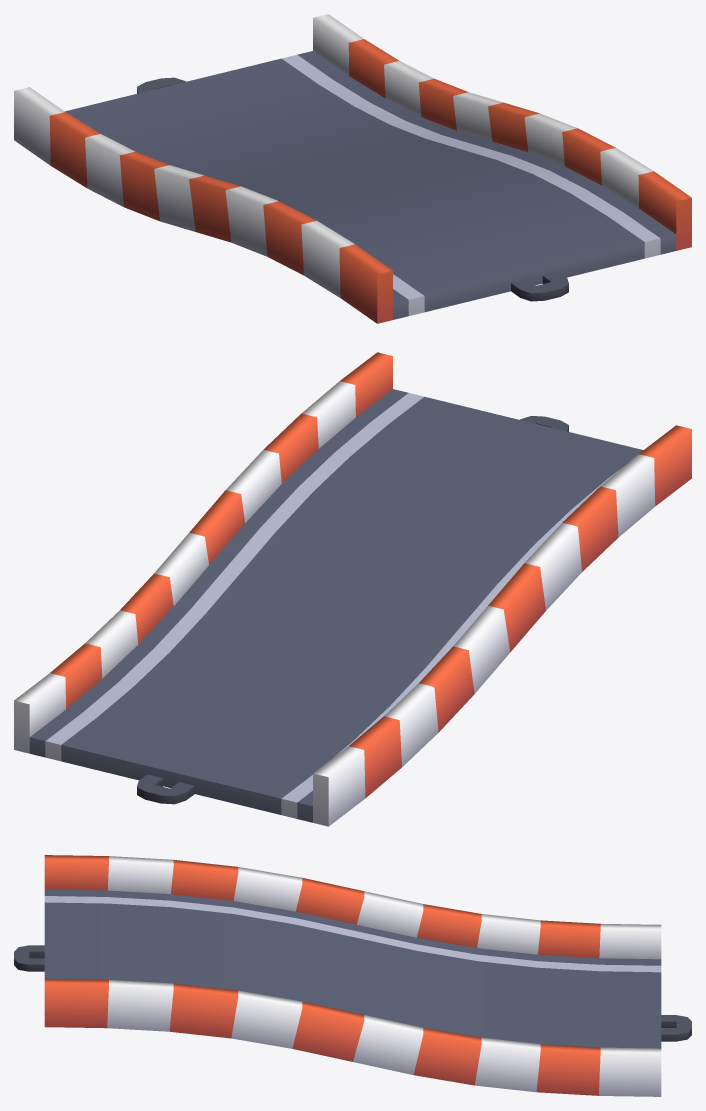
File: kenney-toy-car-track-road-wide-straight-hill-complete-half.glb
The picture shows the model from 3 angles, top to bottom: view 1: azimuth 30°, elevation 25°; view 2: azimuth 150°, elevation 25°; view 3: azimuth 270°, elevation 25°; orthographic projection. The views are drawn at different scales.
Parts seen in each view (by area): view 1: track-road-wide-straight-hill-complete-half; view 2: track-road-wide-straight-hill-complete-half; view 3: track-road-wide-straight-hill-complete-half.
Boxes of the visible parts, bbox=[...] form: track-road-wide-straight-hill-complete-half: bbox=[14, 14, 691, 323]; track-road-wide-straight-hill-complete-half: bbox=[14, 352, 691, 826]; track-road-wide-straight-hill-complete-half: bbox=[14, 855, 691, 1096].
Size of the model in its own units: 2 by 0.7998 by 4.4.
1 material, 1 textured.
